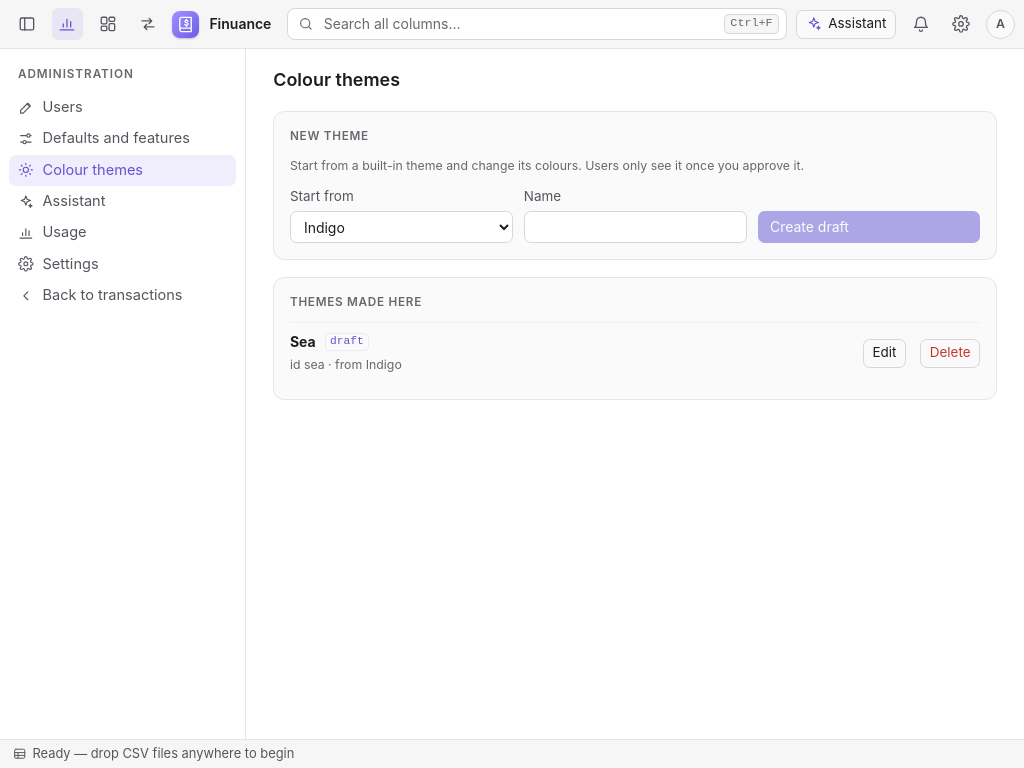
Test: administration › edits a theme: approval waits for every pair to pass
Click the button "Edit". click: (884, 353)
box: [862,339,906,368]
(page scrolled)
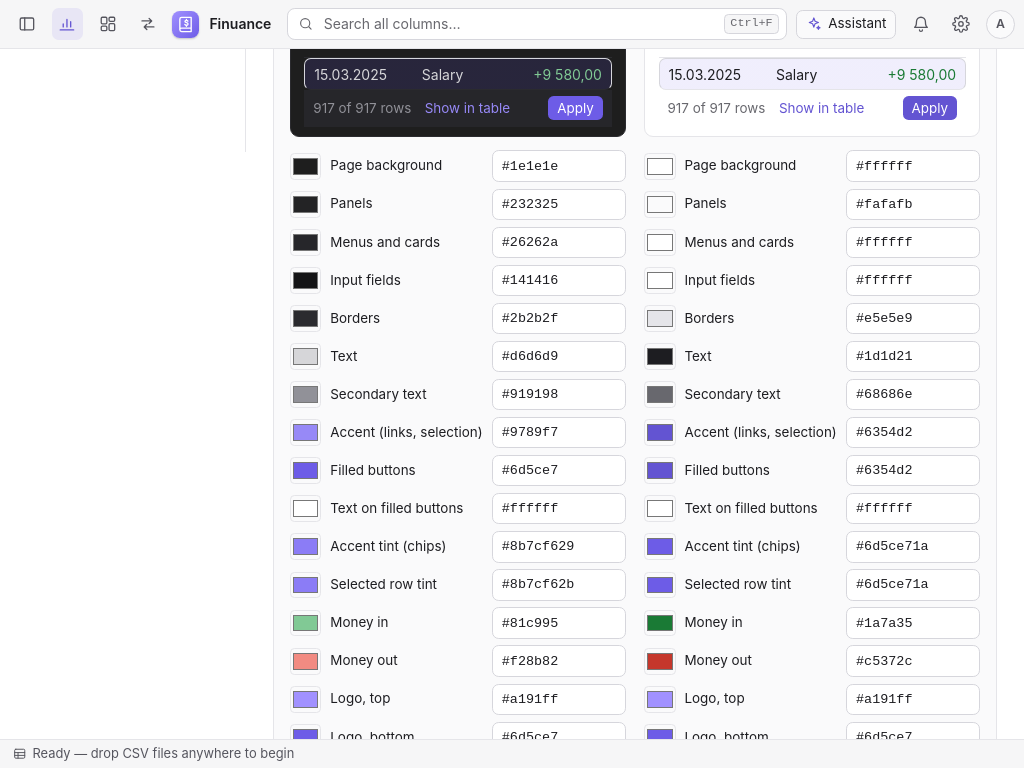
Replace the text in the field named "Secondary text, light" with "#bbbbbb". click: (913, 395)
box: [846,379,980,410]
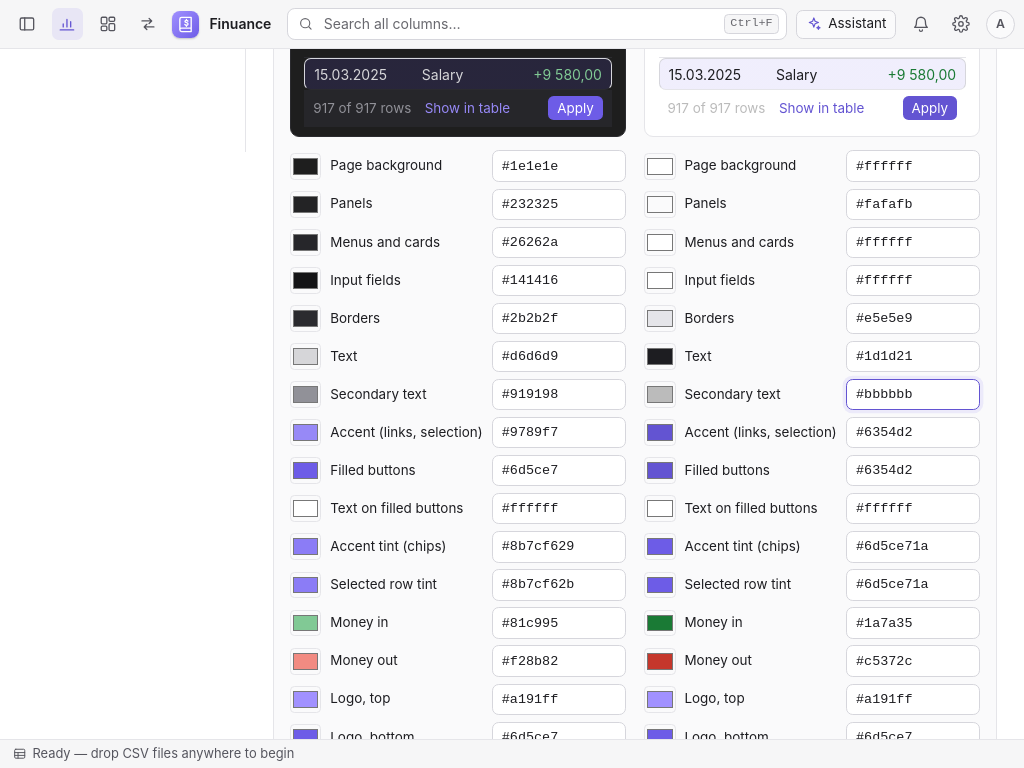
Replace the text in the field named "Secondary text, light" with "#555555". click: (913, 395)
box: [846,379,980,410]
(page scrolled)
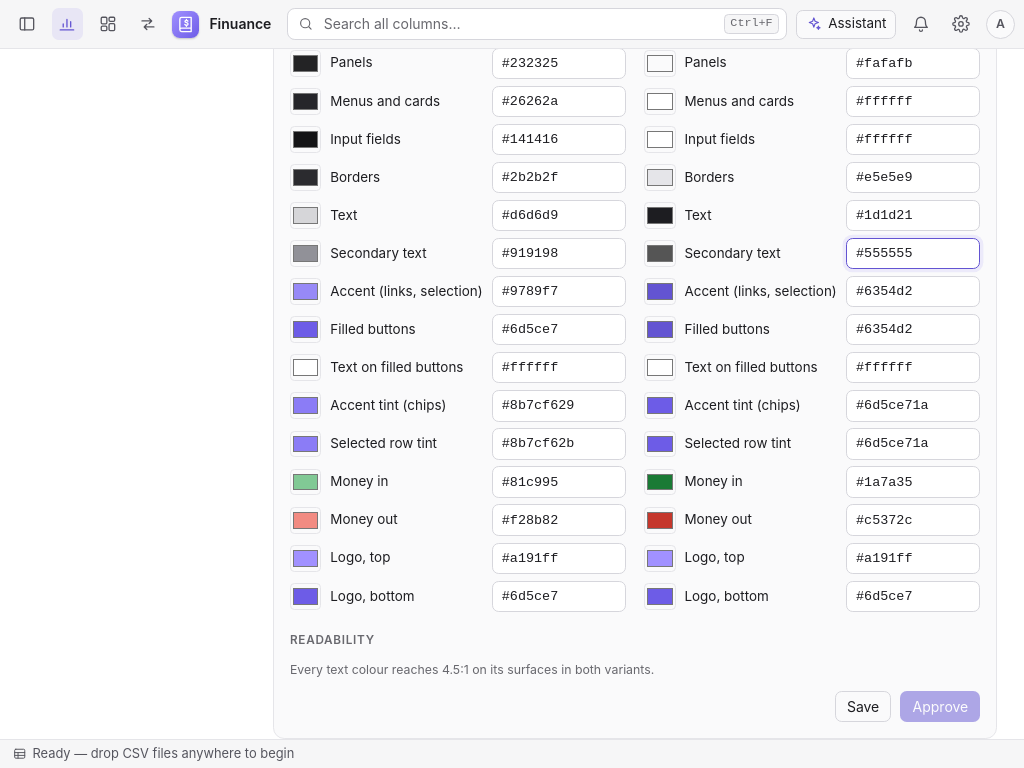
Check: the text "Every text colour reaches 4.5:1 on its surfaces in both variants." is shown, box [290,662,654,677]
Click the button "Save". click: (863, 707)
box: [835,691,891,722]
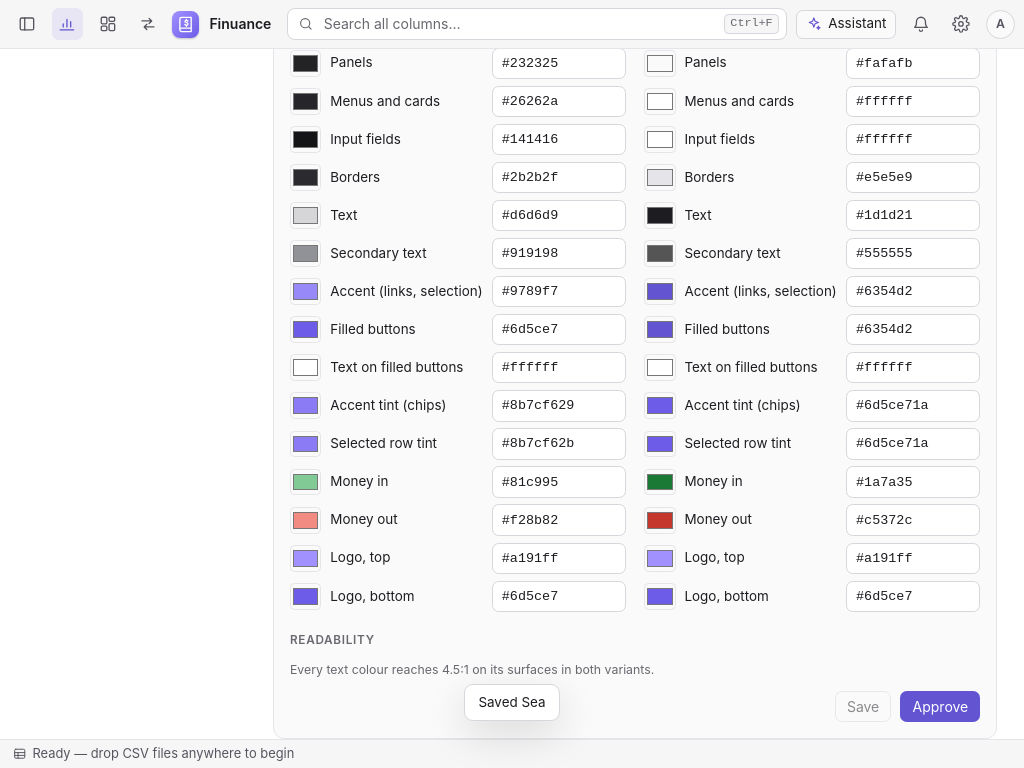
Check: the text "Saved Sea" is shown, box [464,684,560,721]
Check: the button "Approve" is enabled
Click the button "Approve". click: (940, 707)
box: [900,691,980,722]
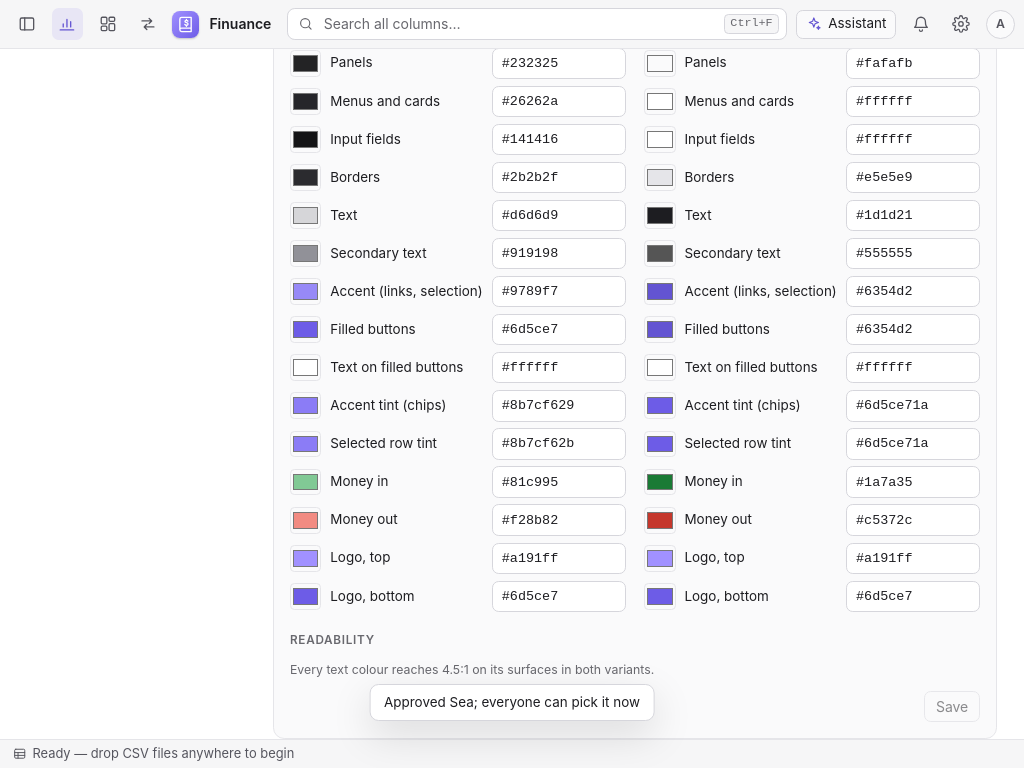
Check: the text "Approved Sea; everyone can pick it now" is shown, box [370,684,654,721]
